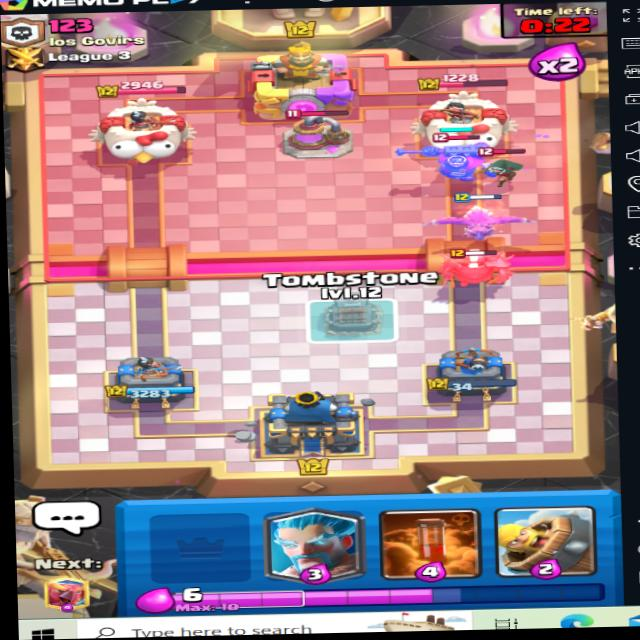bandit: (477, 149, 576, 197)
elixir-collector: (277, 113, 359, 163)
pekka: (431, 247, 505, 292)
skeleton-king: (405, 128, 497, 191)
